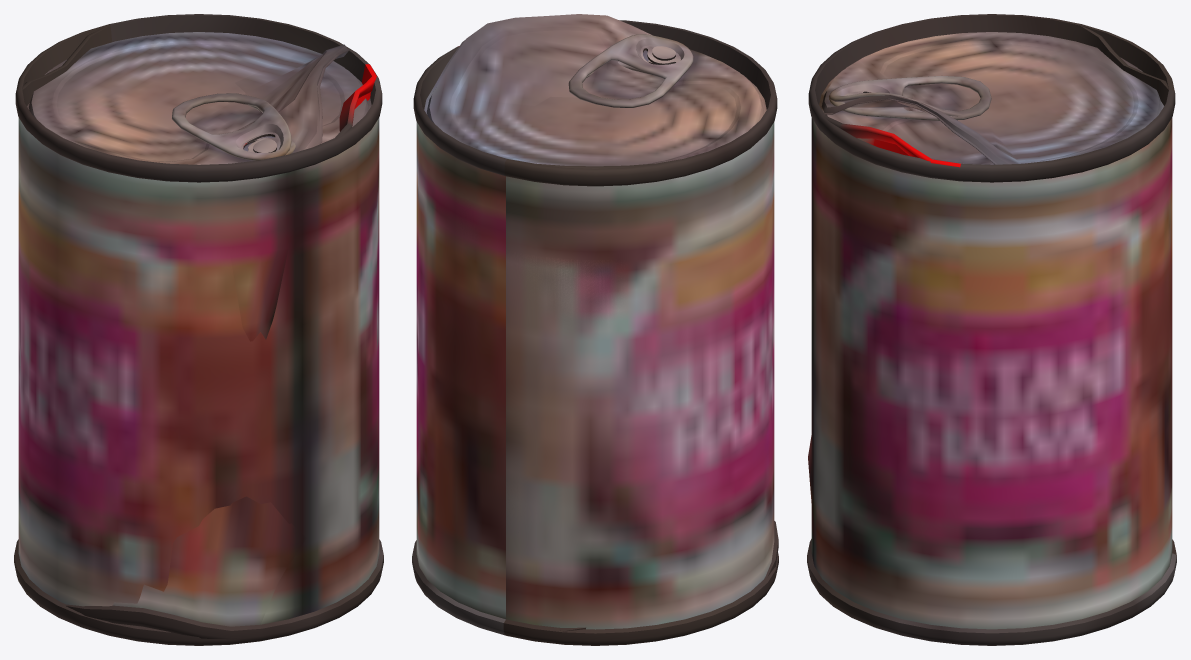
File: canned2.glb
3 renders of one model, left to right at view 1: azimuth 30°, elevation 25°; view 2: azimuth 150°, elevation 25°; view 3: azimuth 270°, elevation 25°, orthographic.
Visible parts, largest first — view 1: MeshGood, MeshBad; view 2: MeshGood, MeshBad; view 3: MeshGood, MeshBad.
Part boxes in pixels (x1,y1,x2,y2): MeshGood: (14, 14, 383, 645); MeshBad: (22, 20, 376, 639); MeshGood: (412, 20, 778, 645); MeshBad: (427, 14, 778, 631); MeshGood: (807, 14, 1176, 645); MeshBad: (808, 20, 1169, 541).
Size of the model in its own units: 0.075 by 0.1162 by 0.075.
2 materials, 2 textured.
